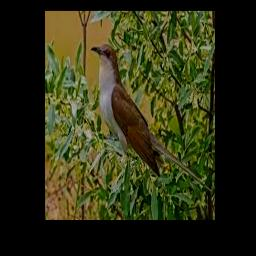Cuckoo: (90, 43, 211, 192)
